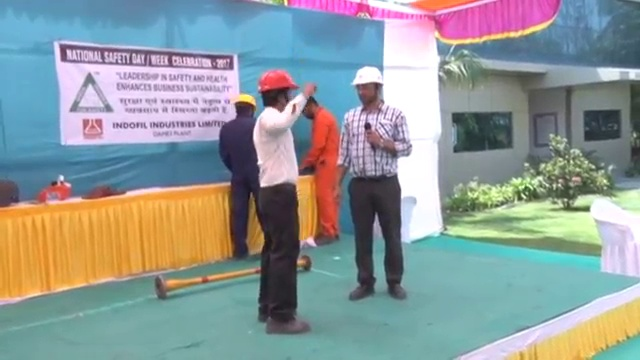helmet: (256, 69, 302, 91), (349, 64, 384, 87), (230, 92, 260, 109)
helmet_off: (299, 94, 322, 122)
helmet_on: (256, 69, 302, 114), (349, 64, 385, 113), (229, 91, 260, 121)
person: (332, 64, 412, 300), (253, 68, 318, 335), (218, 91, 267, 260), (299, 93, 343, 245)
